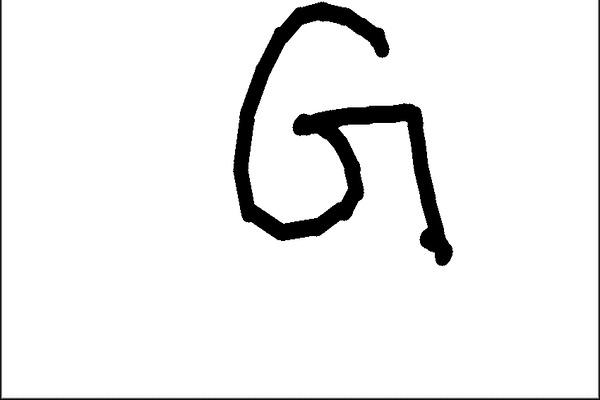G: (229, 2, 457, 271)
